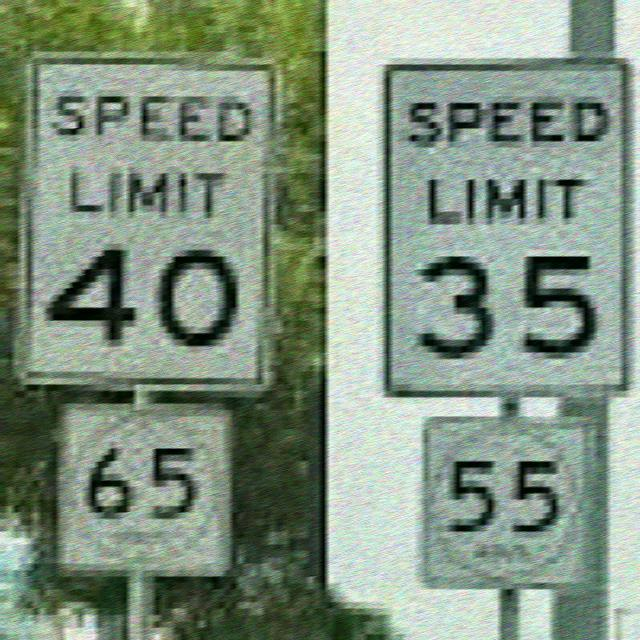speedLimit35: (380, 48, 624, 406)
speedLimit40: (22, 48, 279, 394)
